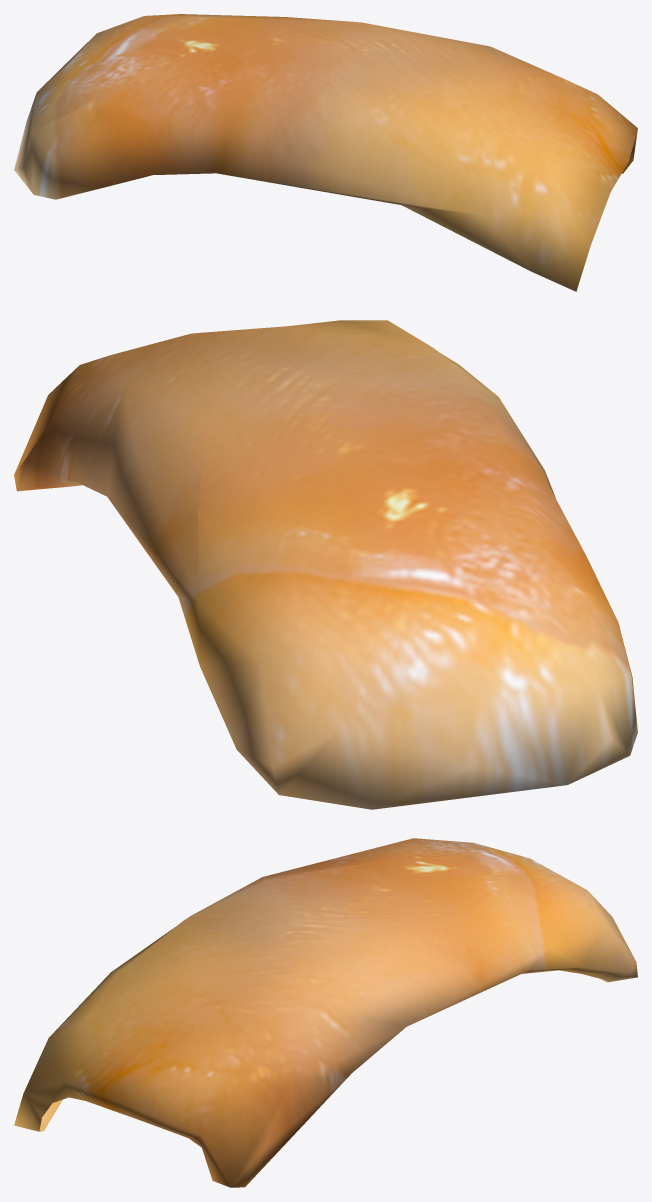
The model's file is shellsashimi.fbx.
The picture shows the model from 3 angles, top to bottom: view 1: azimuth 30°, elevation 25°; view 2: azimuth 150°, elevation 25°; view 3: azimuth 270°, elevation 25°; orthographic projection. The views are drawn at different scales.
Parts seen in each view (by area): view 1: Salmon 4.006; view 2: Salmon 4.006; view 3: Salmon 4.006.
Boxes of the visible parts, x1=… form: Salmon 4.006: x1=14, y1=14, x2=637, y2=291; Salmon 4.006: x1=14, y1=320, x2=637, y2=809; Salmon 4.006: x1=14, y1=838, x2=637, y2=1187.
Size of the model in its own units: 101 by 31.64 by 102.
1 material, 1 textured.
